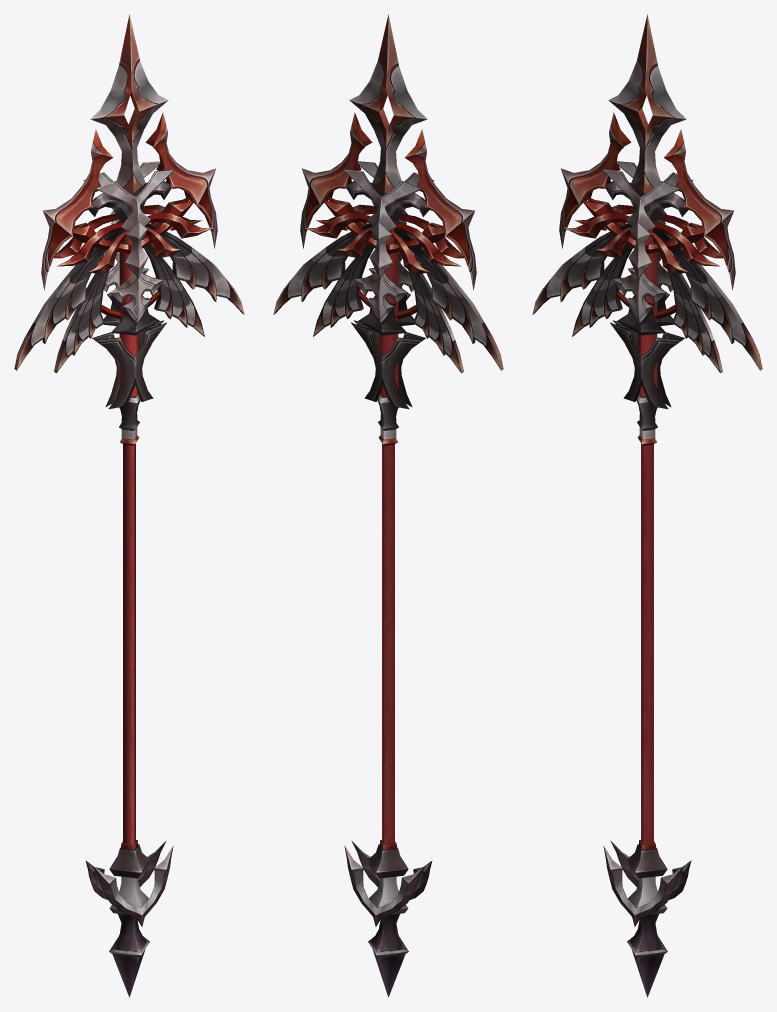
Rendered from Hero_Theo_Substory01_Weapon.fbx.
3 renders of one model, left to right at view 1: azimuth 30°, elevation 25°; view 2: azimuth 150°, elevation 25°; view 3: azimuth 330°, elevation 25°, orthographic.
Visible parts, largest first — view 1: Hero_Theo_Substory01_Weapon; view 2: Hero_Theo_Substory01_Weapon; view 3: Hero_Theo_Substory01_Weapon.
Boxes of the visible parts, box(x1,y1,x2,y2) form: Hero_Theo_Substory01_Weapon: box(14, 14, 244, 997); Hero_Theo_Substory01_Weapon: box(273, 14, 503, 997); Hero_Theo_Substory01_Weapon: box(532, 14, 762, 997).
Bounding box in the file's own units: 0.5541 × 2.29 × 0.1069.
Materials: 1 (1 with a texture image).
